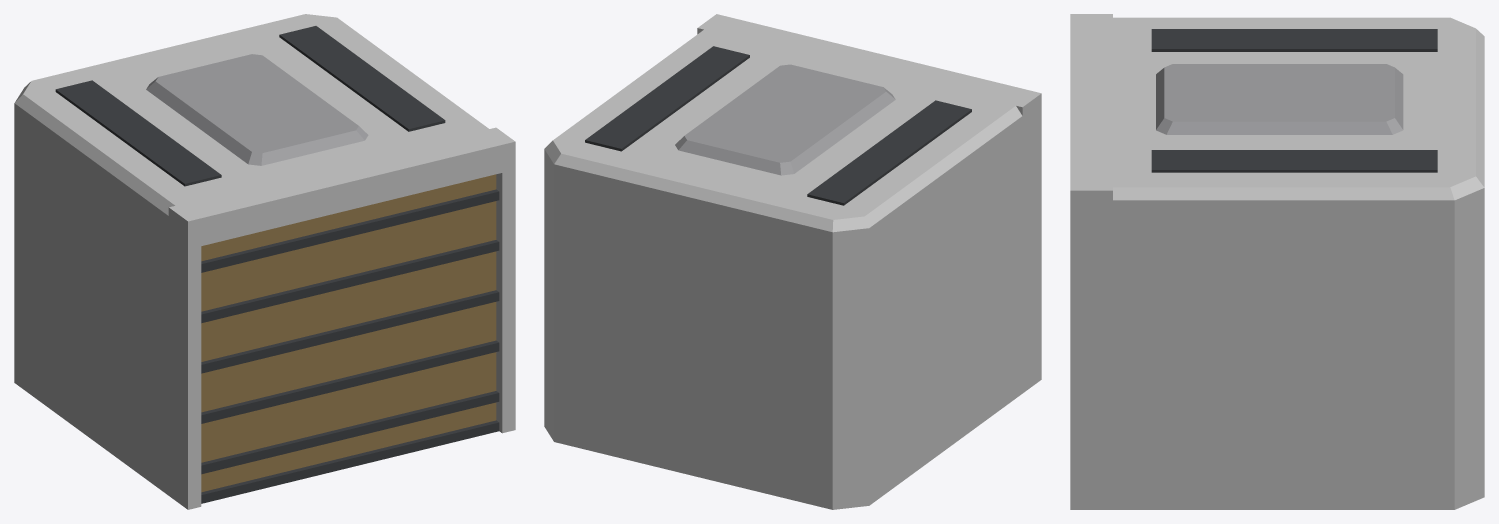
Rendered from large_thruster.obj.
3 renders of one model, left to right at view 1: azimuth 30°, elevation 25°; view 2: azimuth 150°, elevation 25°; view 3: azimuth 270°, elevation 25°, orthographic. The views are drawn at different scales.
Parts seen in each view (by area): view 1: large_thruster_6, large_thruster_0, large_thruster_1, large_thruster_4, large_thruster_14, large_thruster_2, large_thruster_3, large_thruster_12, large_thruster_13, large_thruster_5, large_thruster_9, large_thruster_10 (+3 smaller); view 2: large_thruster_0, large_thruster_1, large_thruster_14, large_thruster_2, large_thruster_4, large_thruster_12, large_thruster_13; view 3: large_thruster_0, large_thruster_1, large_thruster_14, large_thruster_3, large_thruster_4, large_thruster_12, large_thruster_13.
Part boxes in pixels (<box>): large_thruster_6: <box>201,174,496,492</box>; large_thruster_0: <box>14,103,168,495</box>; large_thruster_1: <box>14,14,488,215</box>; large_thruster_4: <box>182,131,502,245</box>; large_thruster_14: <box>146,54,368,165</box>; large_thruster_2: <box>168,204,201,509</box>; large_thruster_3: <box>483,127,515,433</box>; large_thruster_12: <box>55,80,221,186</box>; large_thruster_13: <box>279,26,445,131</box>; large_thruster_5: <box>201,420,499,503</box>; large_thruster_9: <box>201,290,499,373</box>; large_thruster_10: <box>201,240,499,323</box>; large_thruster_0: <box>544,116,1022,509</box>; large_thruster_1: <box>544,29,1022,232</box>; large_thruster_14: <box>675,64,895,175</box>; large_thruster_2: <box>1010,90,1041,393</box>; large_thruster_4: <box>711,17,1027,103</box>; large_thruster_12: <box>807,100,971,205</box>; large_thruster_13: <box>585,46,749,151</box>; large_thruster_0: <box>1113,188,1484,509</box>; large_thruster_1: <box>1113,17,1484,200</box>; large_thruster_14: <box>1156,64,1403,134</box>; large_thruster_3: <box>1070,183,1112,509</box>; large_thruster_4: <box>1070,21,1112,183</box>; large_thruster_12: <box>1151,29,1437,51</box>; large_thruster_13: <box>1151,150,1437,172</box>.
Size of the model in its own units: 1.96 by 1.7 by 1.94.
